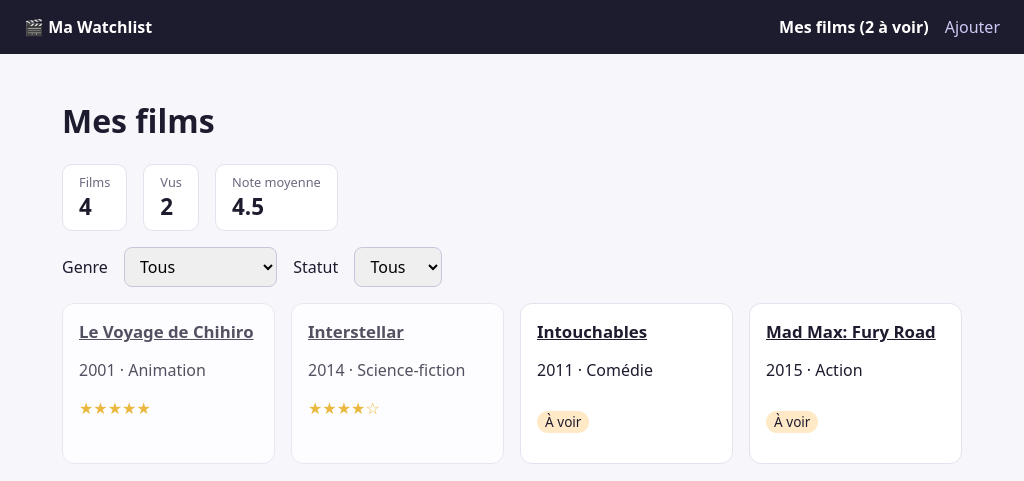
Test case: Ma Watchlist › filtre par genre et par statut
Select "Animation" in the dropdown labelled "Genre": (201, 267) [124, 247, 277, 287]
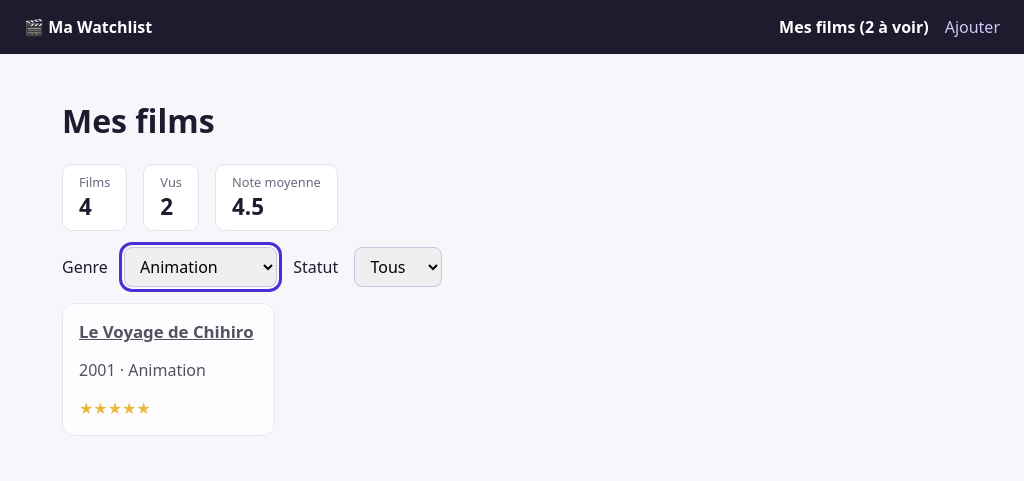
Expected: the number of list items is 1, [62, 303, 275, 436]
Select "Tous" in the dropdown labelled "Genre": (201, 267) [124, 247, 277, 287]
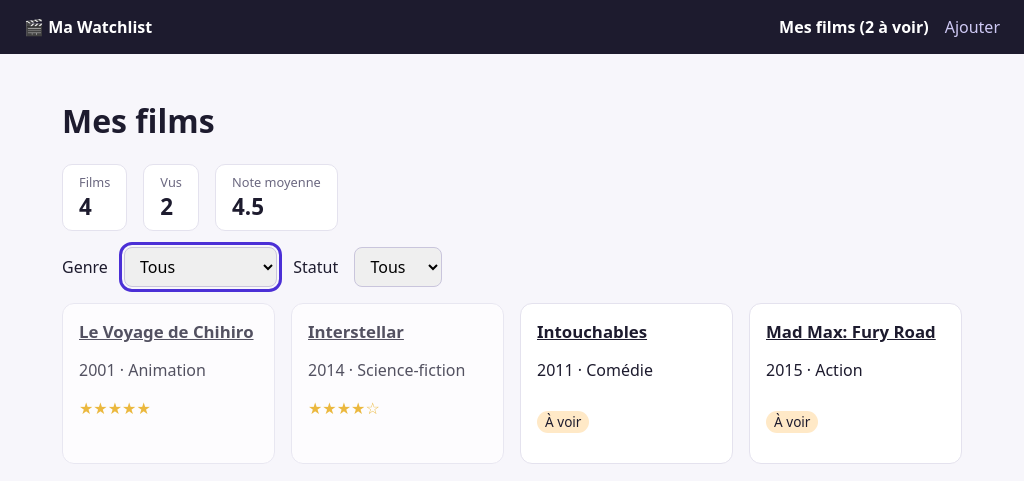
Select "À voir" in the dropdown labelled "Statut": (398, 267) [354, 247, 442, 287]
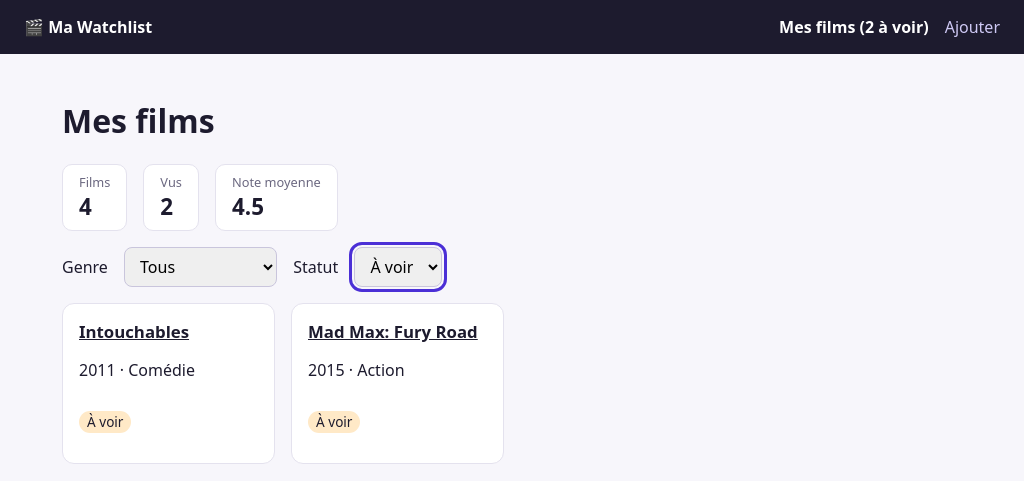
Now the number of list items is 2, box [62, 303, 275, 464]; [291, 303, 504, 464]
